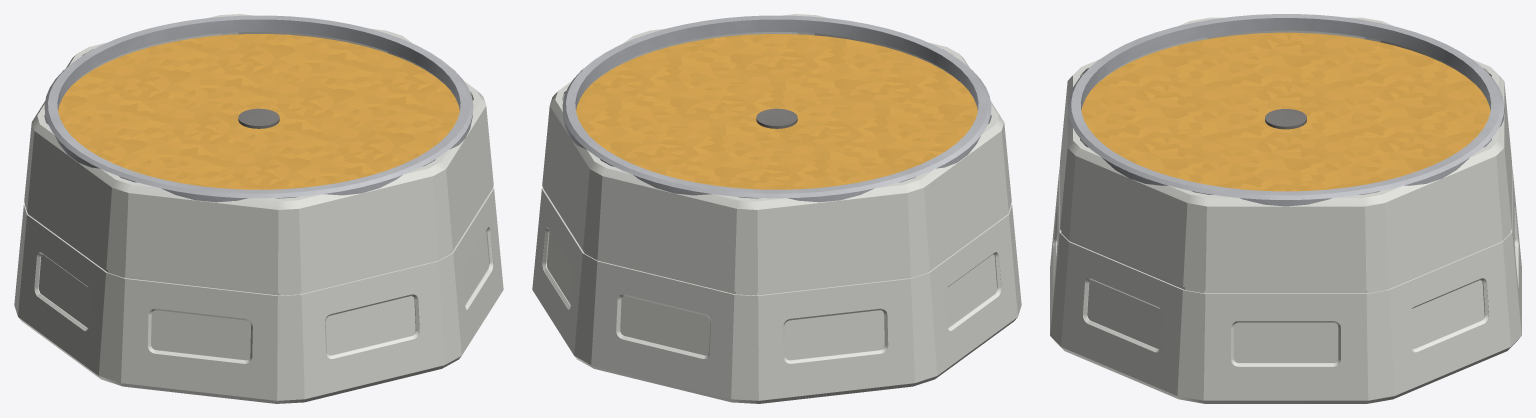
The model's file is ax_prop_20_thrust_structure_m_x2.glb.
3 views of the same model, side by side, from view 1: azimuth 30°, elevation 25°; view 2: azimuth 150°, elevation 25°; view 3: azimuth 270°, elevation 25° (orthographic).
Visible parts, largest first — view 1: skirt, mli_floor, interface_ring, thrust_beams; view 2: skirt, mli_floor, interface_ring, thrust_beams; view 3: skirt, mli_floor, interface_ring, thrust_beams.
Part boxes in pixels (x1,y1,x2,y2): skirt: [14, 14, 503, 403]; mli_floor: [58, 34, 459, 189]; interface_ring: [44, 15, 473, 202]; thrust_beams: [238, 108, 279, 128]; skirt: [532, 14, 1021, 403]; mli_floor: [576, 34, 977, 189]; interface_ring: [562, 15, 991, 202]; thrust_beams: [756, 108, 797, 128]; skirt: [1050, 17, 1521, 403]; mli_floor: [1081, 32, 1490, 191]; interface_ring: [1067, 14, 1504, 206]; thrust_beams: [1265, 109, 1306, 129].
Size of the model in its own units: 2.7 by 1.27 by 2.7.
Materials: 4 (3 with a texture image).
